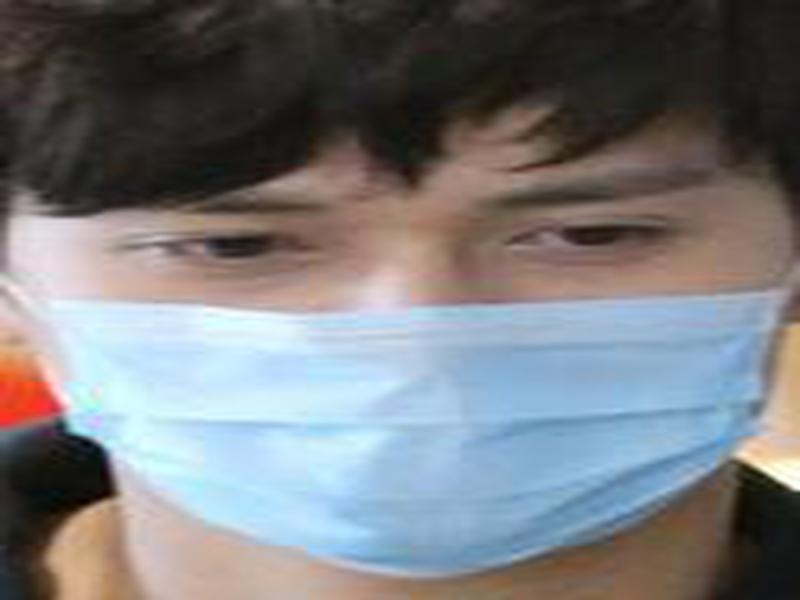with_mask: (1, 72, 800, 583)
